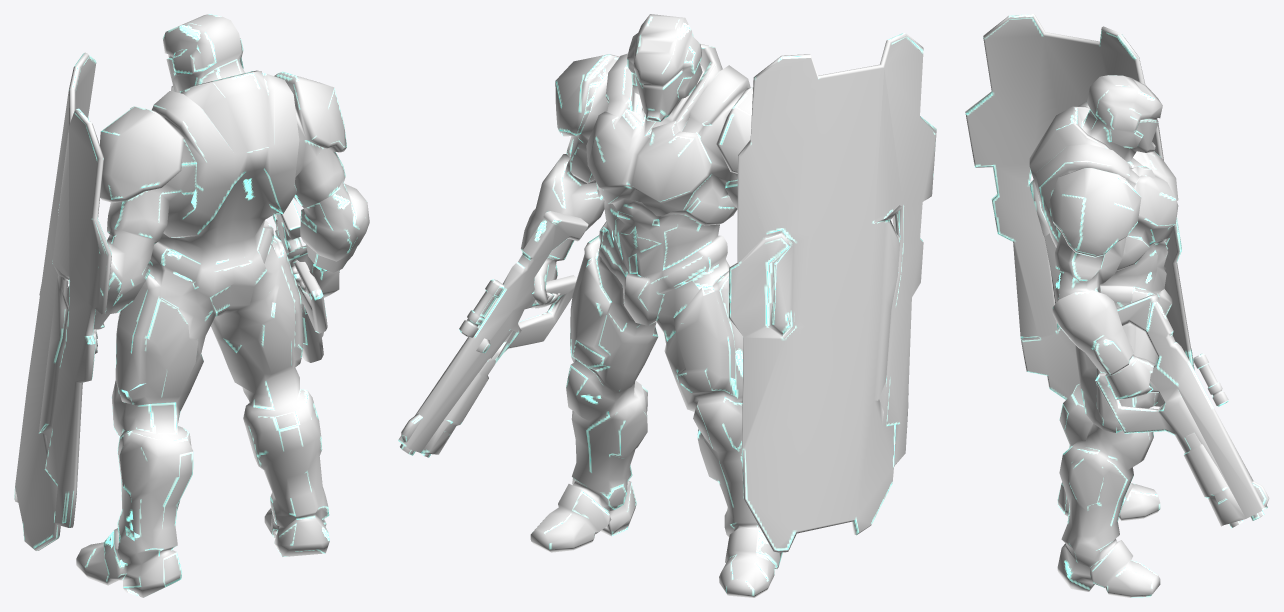
Rendered from infanterie_v3.glb.
3 views of the same model, side by side, from view 1: azimuth 30°, elevation 25°; view 2: azimuth 150°, elevation 25°; view 3: azimuth 270°, elevation 25° (orthographic). The views are drawn at different scales.
Visible parts, largest first — view 1: infanterie_v3; view 2: infanterie_v3; view 3: infanterie_v3.
Boxes of the visible parts, <box> form: infanterie_v3: <box>14,14,369,597</box>; infanterie_v3: <box>398,14,936,597</box>; infanterie_v3: <box>965,14,1269,597</box>.
Size of the model in its own units: 1.91 by 2.6 by 1.52.
1 material, 1 textured.
